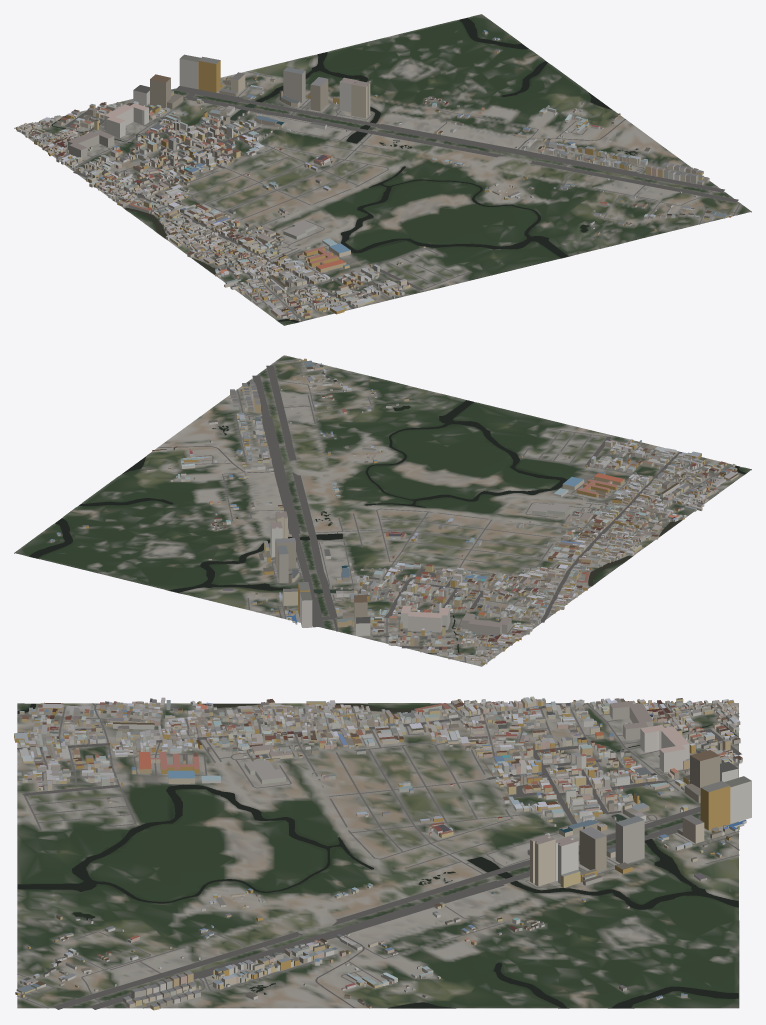
The picture shows the model from 3 angles, top to bottom: view 1: azimuth 30°, elevation 25°; view 2: azimuth 150°, elevation 25°; view 3: azimuth 270°, elevation 25°; orthographic projection. The views are drawn at different scales.
Visible parts, largest first — view 1: ground, buildings, roads, water; view 2: ground, buildings, roads, water; view 3: ground, buildings, roads, water.
Part boxes in pixels (x1=…): ground: x1=14, y1=14, x2=751, y2=325; buildings: x1=16, y1=30, x2=733, y2=321; roads: x1=35, y1=71, x2=740, y2=321; water: x1=51, y1=18, x2=638, y2=322; ground: x1=14, y1=355, x2=751, y2=666; buildings: x1=49, y1=358, x2=738, y2=664; roads: x1=158, y1=359, x2=732, y2=662; water: x1=29, y1=400, x2=745, y2=654; ground: x1=17, y1=703, x2=739, y2=1008; buildings: x1=14, y1=696, x2=751, y2=1010; roads: x1=17, y1=702, x2=741, y2=1009; water: x1=17, y1=703, x2=738, y2=1007.
Size of the model in its own units: 1424 by 94.3 by 1432.
